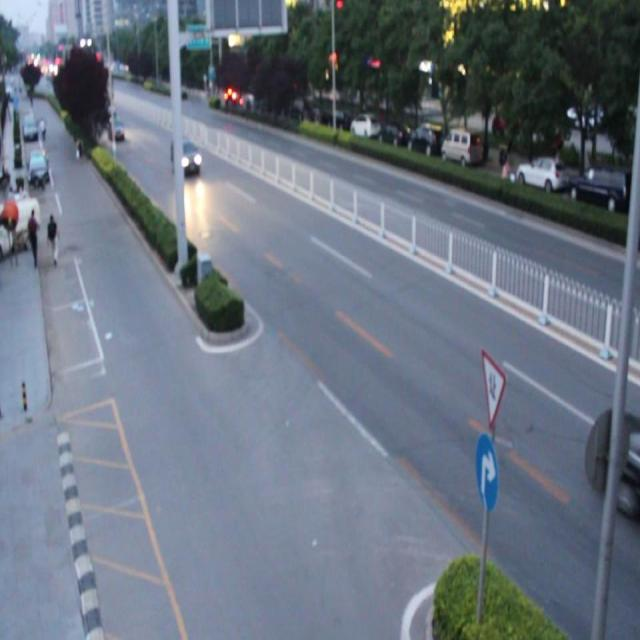car: (171, 136, 200, 174)
